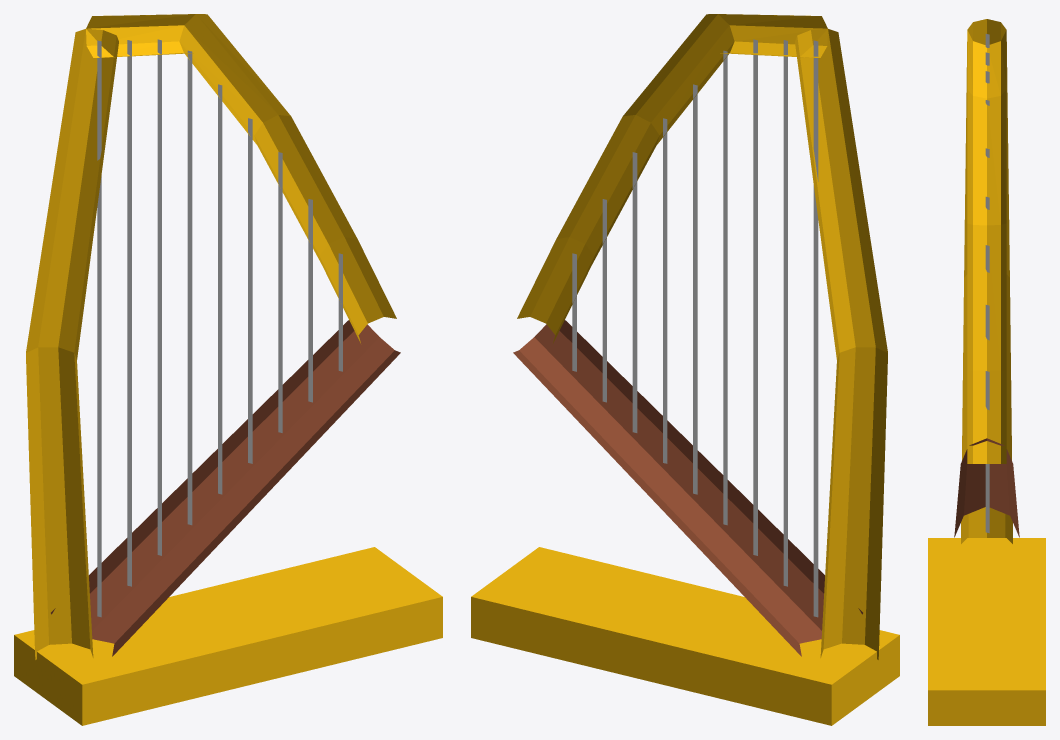
Rendered from harpa.glb.
The picture shows the model from 3 angles, left to right: view 1: azimuth 30°, elevation 25°; view 2: azimuth 150°, elevation 25°; view 3: azimuth 270°, elevation 25°; orthographic projection. The views are drawn at different scales.
Visible parts, largest first — view 1: harpa; view 2: harpa; view 3: harpa.
Boxes of the visible parts, box(x1,y1,x2,y2) form: harpa: box(14, 14, 442, 725); harpa: box(471, 14, 899, 725); harpa: box(928, 19, 1045, 725).
Bounding box in the file's own units: 0.5799 × 0.9794 × 0.1799.
